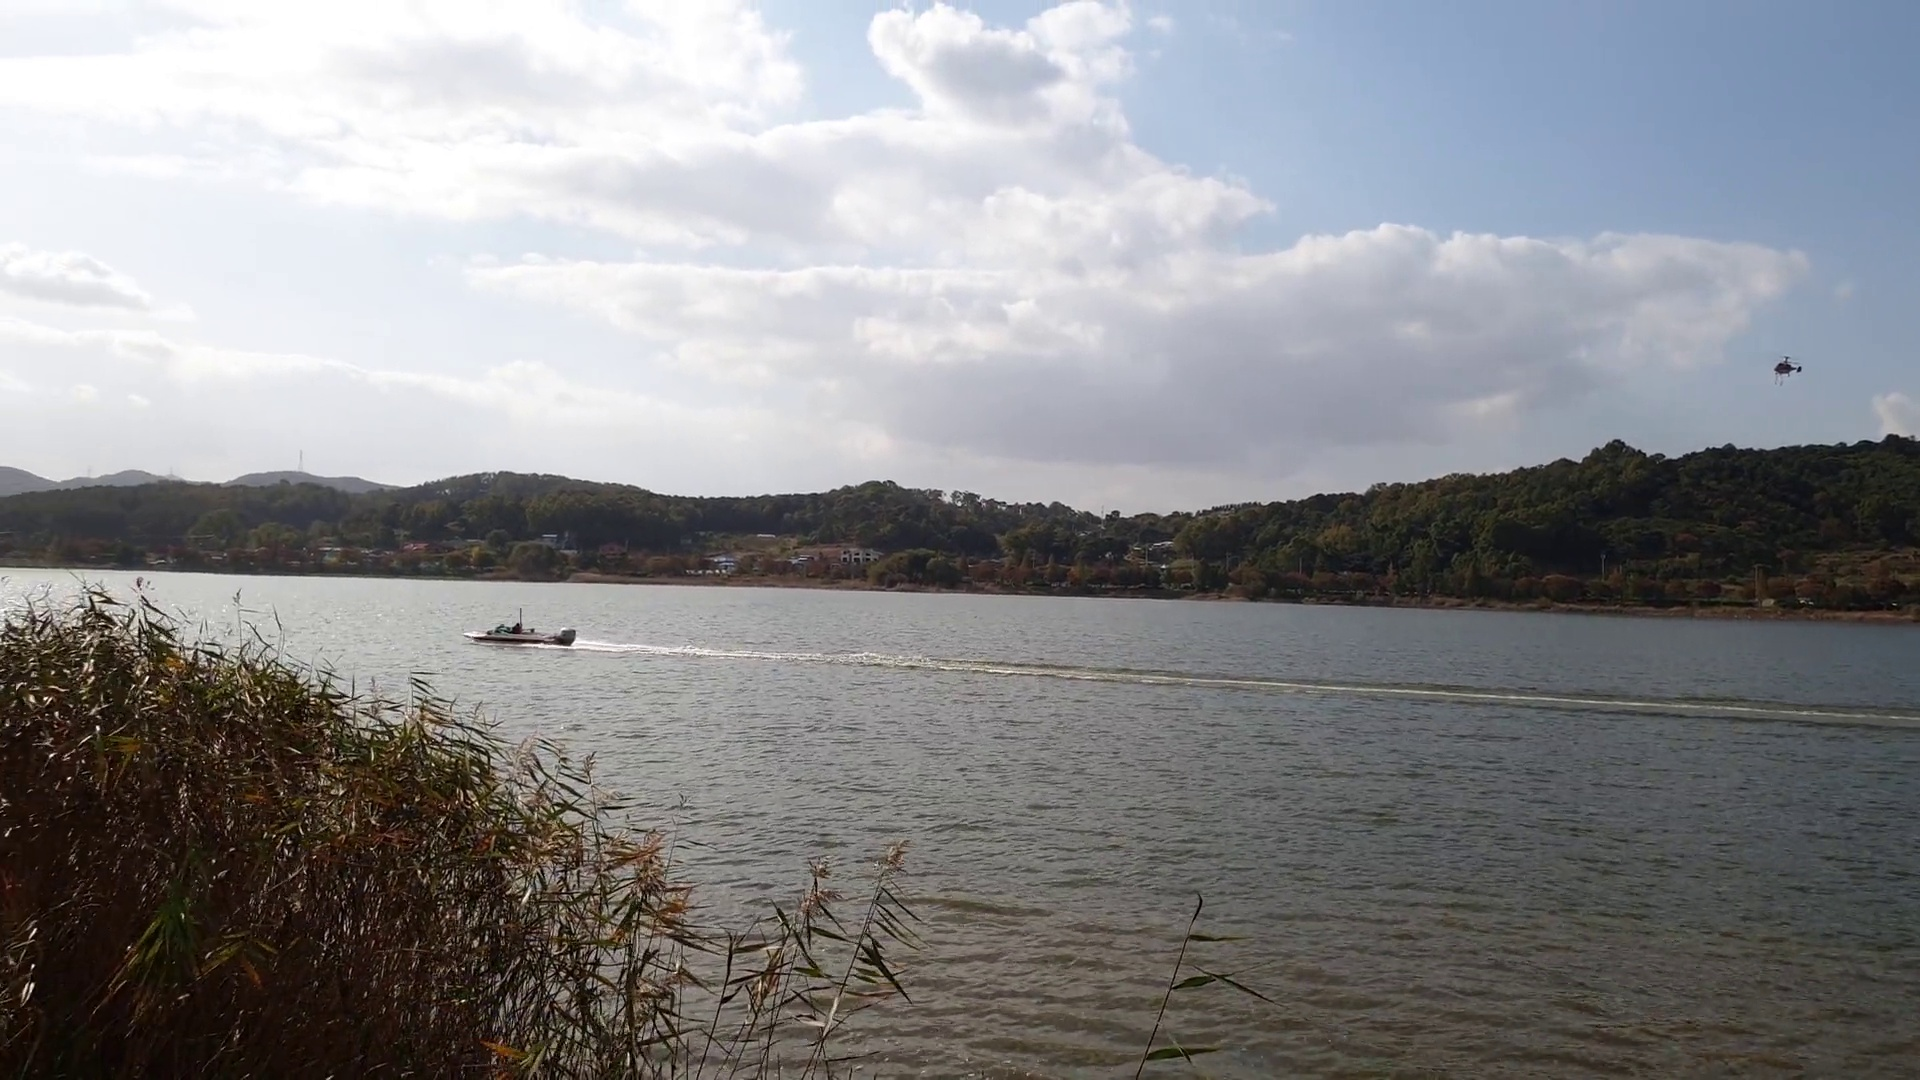heli: (1774, 355, 1803, 376)
